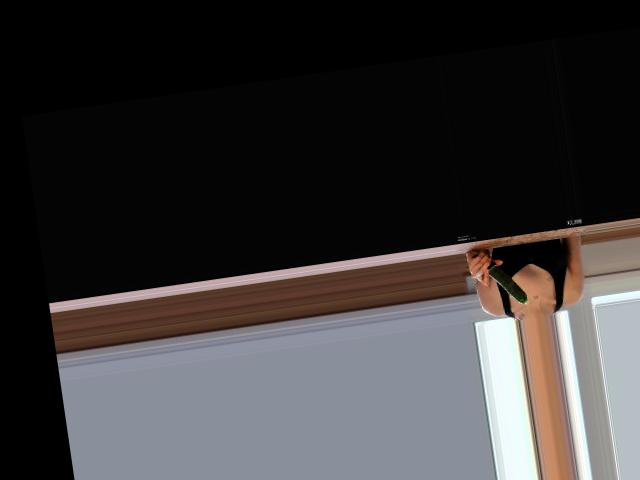cucumber: (472, 247, 527, 310)
